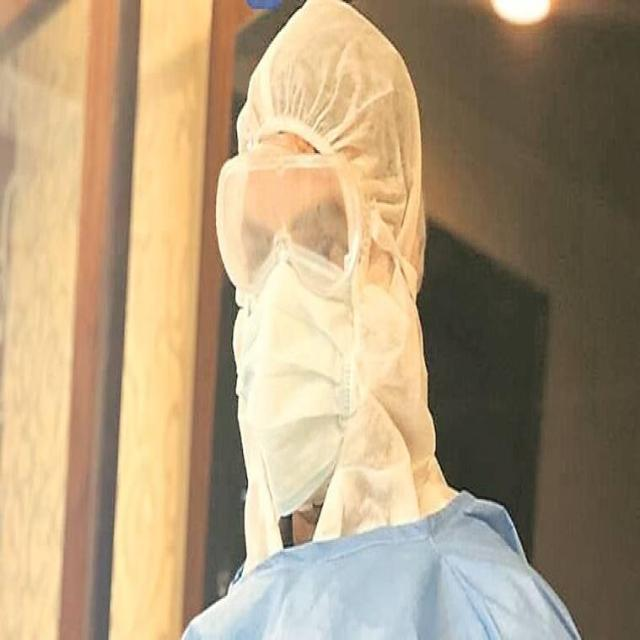Coverall: (197, 7, 528, 640)
Goggles: (208, 143, 363, 284)
Mask: (234, 282, 376, 470)
